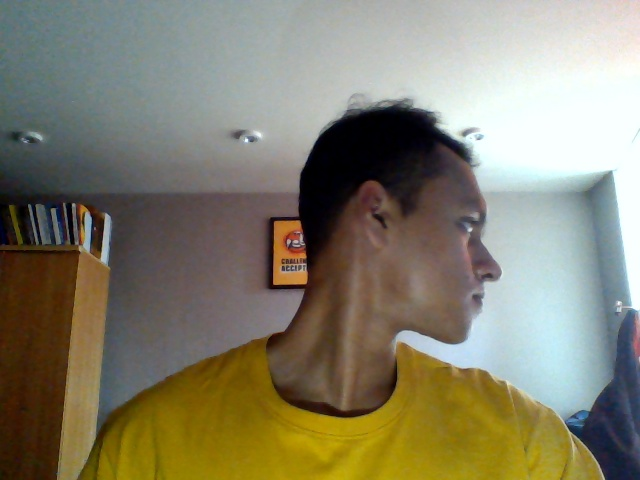no_mask: (353, 242, 497, 345)
